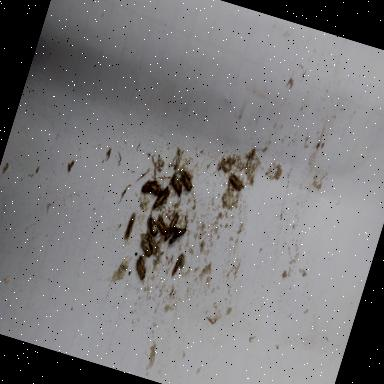pbw: (165, 172, 189, 202), (130, 250, 152, 281), (168, 220, 190, 249), (152, 184, 171, 212), (164, 210, 180, 242), (225, 172, 248, 194), (153, 212, 172, 235), (144, 212, 162, 236), (123, 211, 137, 241), (177, 170, 196, 192), (216, 154, 236, 174), (170, 252, 184, 277), (140, 176, 158, 195), (136, 239, 154, 257), (144, 232, 158, 252), (148, 180, 164, 194), (66, 162, 72, 172)
